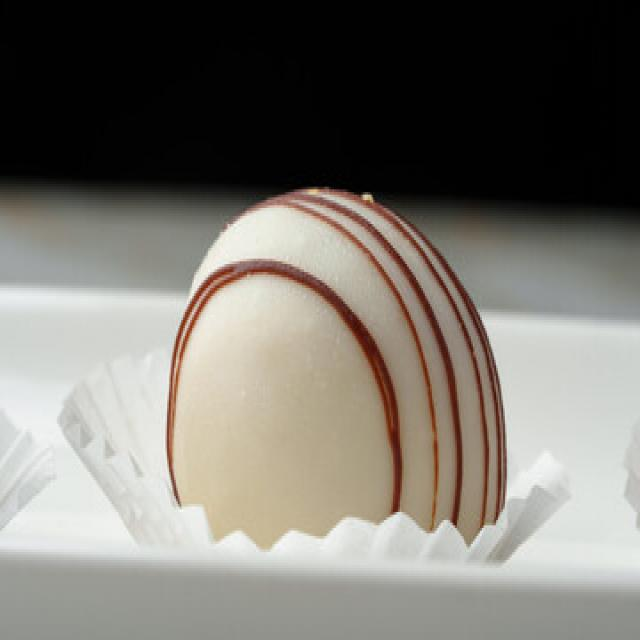chocolate: (164, 179, 505, 543)
